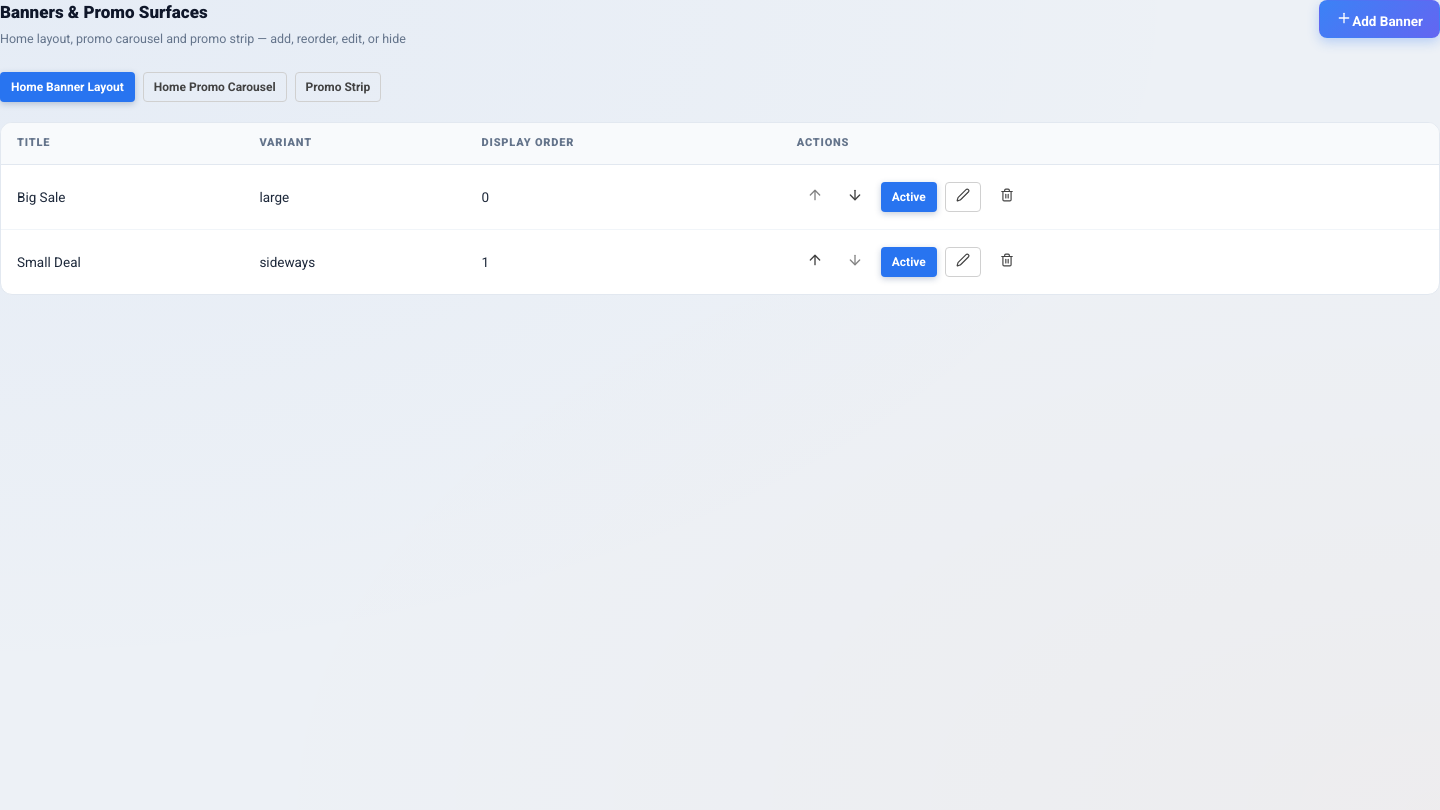
Test: BannersEditor › renders responsive mobile data-labels on table cells and responsive layout classes
This screenshot has width=1440, height=810.
expect the text "Big Sale" is shown: met, box left=1, top=164, right=243, bottom=229
Click the button "Add Banner" at (1380, 19), box left=1319, top=0, right=1439, bottom=38
(page scrolled)
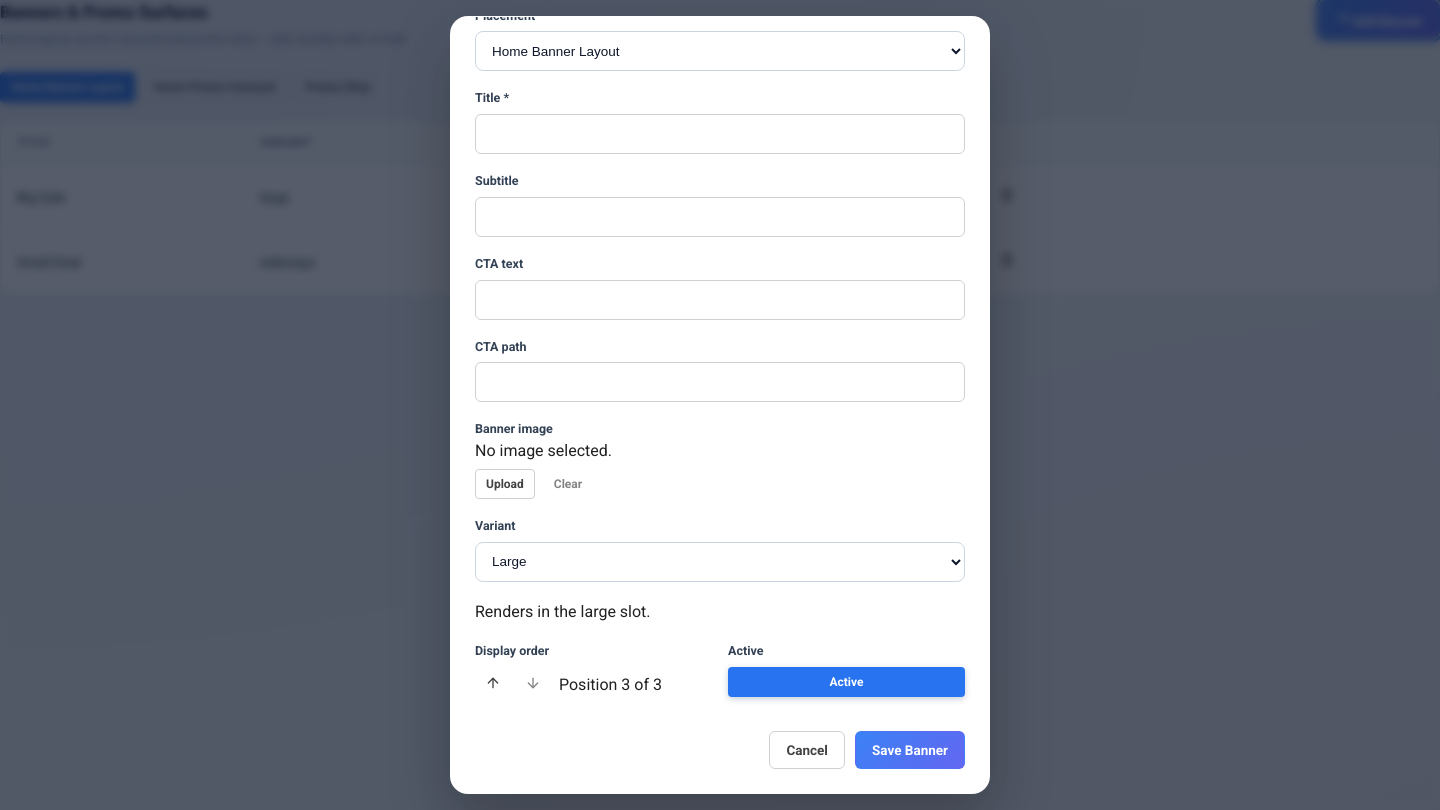
expect the form with class "banners-modal-form" is shown: met, box left=451, top=16, right=989, bottom=792
expect the element with class "banners-modal-footer" is shown: met, box left=769, top=730, right=965, bottom=768
